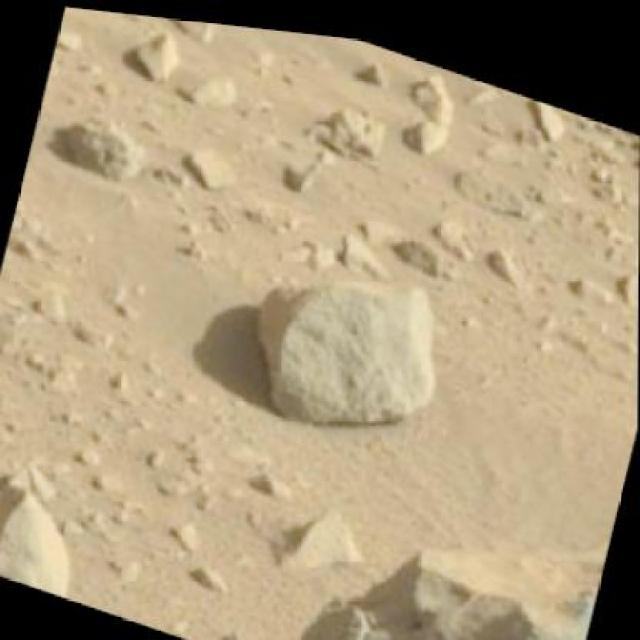rock: (242, 371, 622, 638), (234, 228, 455, 458), (0, 464, 94, 598), (124, 18, 185, 91)
